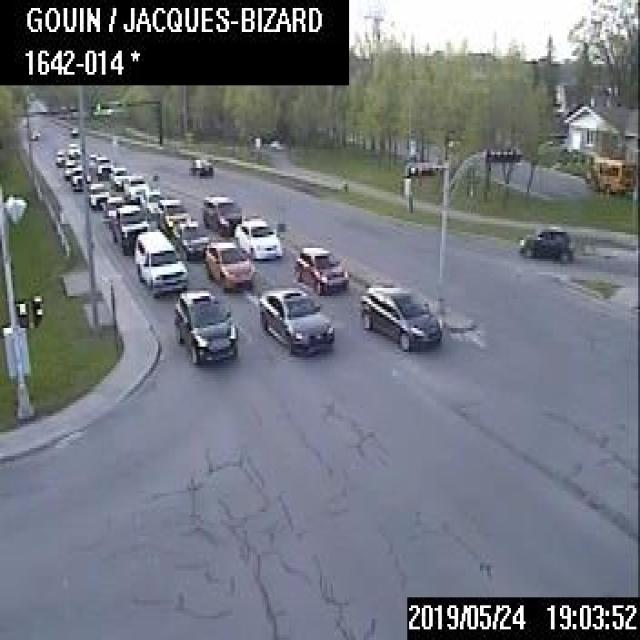bus: (584, 154, 635, 194)
vehicle: (357, 284, 440, 349), (257, 286, 333, 354), (172, 287, 236, 362), (134, 228, 186, 296), (293, 245, 347, 292), (203, 239, 253, 289), (108, 203, 148, 253), (232, 216, 280, 257), (516, 224, 569, 259), (201, 192, 240, 234), (171, 220, 208, 257), (156, 196, 189, 232), (103, 194, 126, 228), (121, 173, 146, 203), (87, 181, 108, 207), (106, 166, 128, 189), (188, 156, 211, 176), (94, 155, 112, 178), (144, 190, 160, 214), (70, 165, 83, 189), (67, 141, 79, 157), (63, 158, 73, 176), (54, 147, 64, 164), (86, 152, 96, 168), (69, 126, 77, 135), (29, 129, 36, 138)
